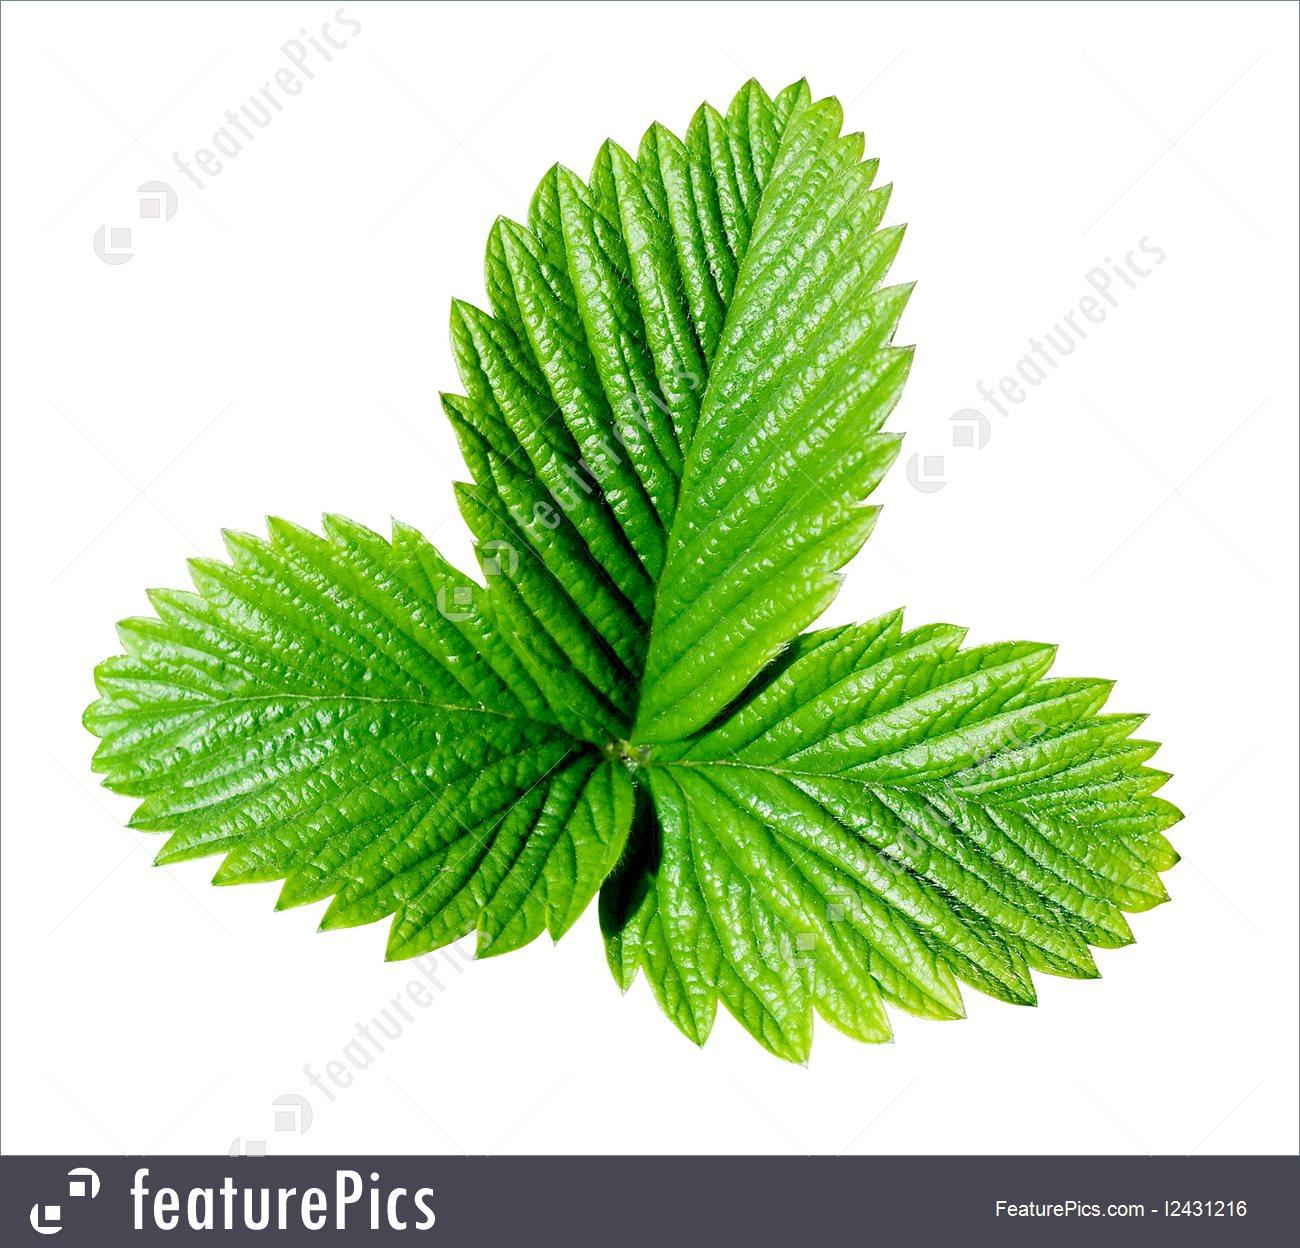Strawberry leaf: (434, 42, 909, 757), (576, 584, 1202, 1072), (49, 502, 647, 971)
